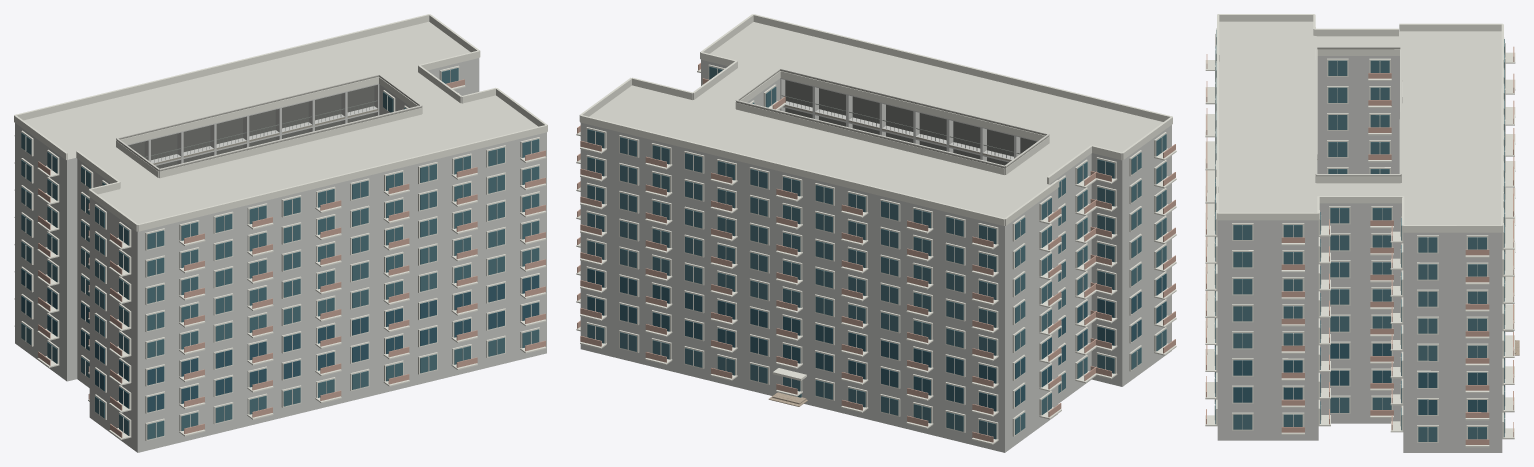
The model's file is chunk-dorm-relation-11970576.glb.
The picture shows the model from 3 angles, left to right: view 1: azimuth 30°, elevation 25°; view 2: azimuth 150°, elevation 25°; view 3: azimuth 270°, elevation 25°; orthographic projection. The views are drawn at different scales.
Parts seen in each view (by area): view 1: chunk-dorm-relation-11970576; view 2: chunk-dorm-relation-11970576; view 3: chunk-dorm-relation-11970576.
Boxes of the visible parts, box(x1,y1,x2,y2) form: chunk-dorm-relation-11970576: box(14, 14, 547, 452); chunk-dorm-relation-11970576: box(576, 14, 1176, 452); chunk-dorm-relation-11970576: box(1205, 14, 1519, 452).
Bounding box in the file's own units: 57.93 × 27.94 × 34.74.
11 materials, 1 textured.
